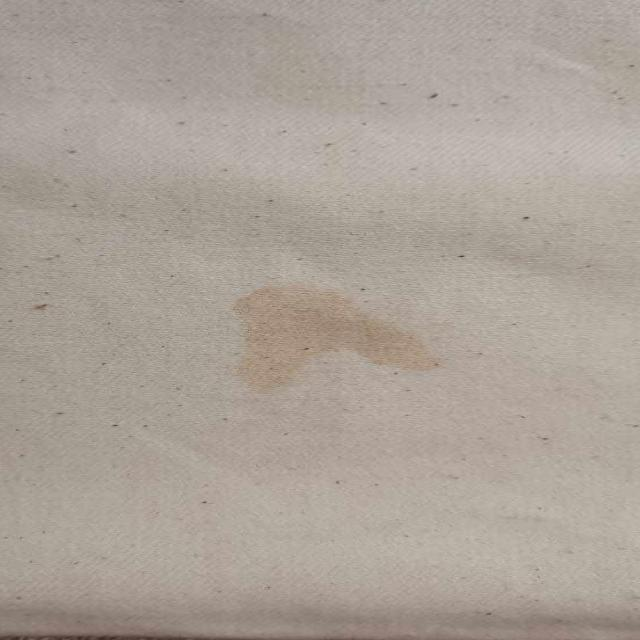taaaches: (205, 264, 442, 406)
